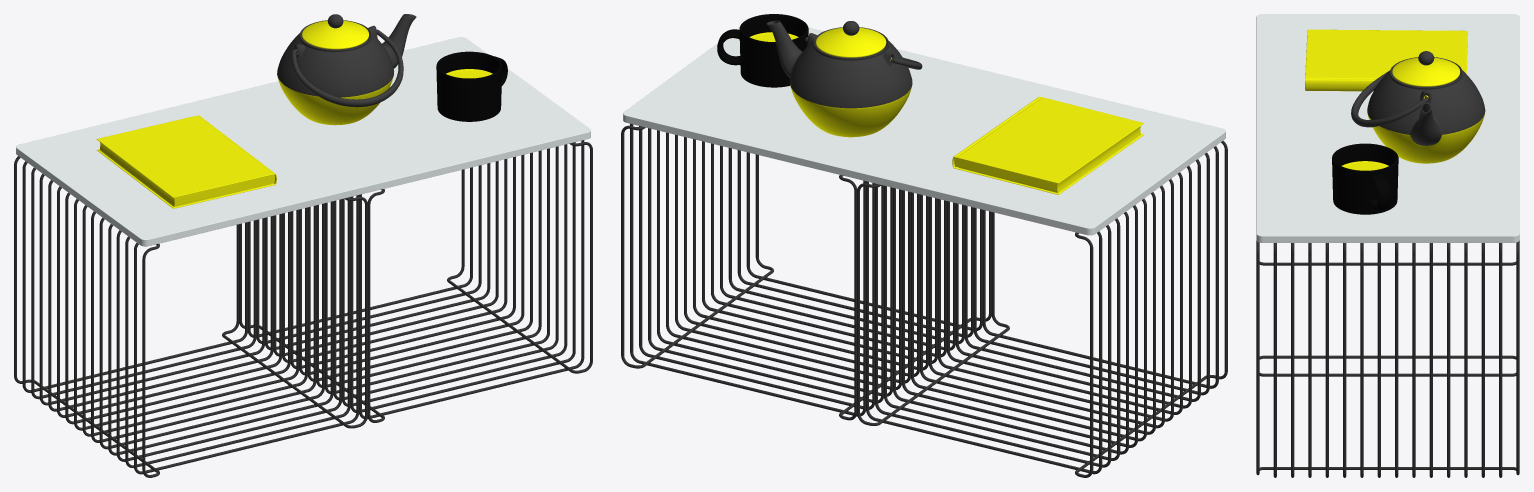
Rendered from Montana_Panton_Wire_2H_mat(1).glb.
3 views of the same model, side by side, from view 1: azimuth 30°, elevation 25°; view 2: azimuth 150°, elevation 25°; view 3: azimuth 270°, elevation 25° (orthographic). The views are drawn at different scales.
Visible parts, largest first — view 1: Montana_Panton_Wire_2H_mat1; view 2: Montana_Panton_Wire_2H_mat1; view 3: Montana_Panton_Wire_2H_mat1.
Part boxes in pixels (x1,y1,x2,y2): Montana_Panton_Wire_2H_mat1: [14, 14, 592, 477]; Montana_Panton_Wire_2H_mat1: [621, 14, 1227, 477]; Montana_Panton_Wire_2H_mat1: [1256, 14, 1519, 477].
Bounding box in the file's own units: 0.696 × 0.5016 × 0.348.
9 materials, 4 textured.
